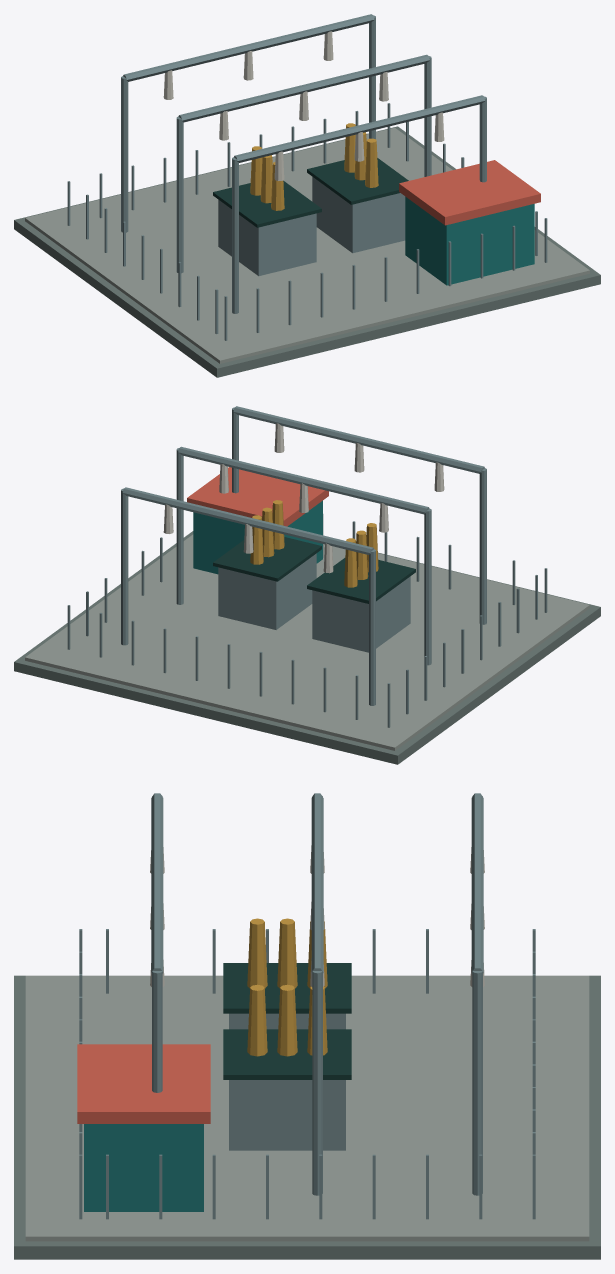
File: substation_lv2.glb
The picture shows the model from 3 angles, top to bottom: view 1: azimuth 30°, elevation 25°; view 2: azimuth 150°, elevation 25°; view 3: azimuth 270°, elevation 25°; orthographic projection. The views are drawn at different scales.
Parts seen in each view (by area): view 1: rough, metallic; view 2: rough, metallic; view 3: rough, metallic.
Boxes of the visible parts, left/top/right/bottom form: rough: left=14, top=31, right=600, bottom=377; metallic: left=67, top=14, right=547, bottom=340; rough: left=14, top=423, right=600, bottom=764; metallic: left=67, top=406, right=547, bottom=727; rough: left=14, top=845, right=600, bottom=1259; metallic: left=79, top=793, right=535, bottom=1219.
Size of the model in its own units: 9.6 by 4.03 by 8.8.
